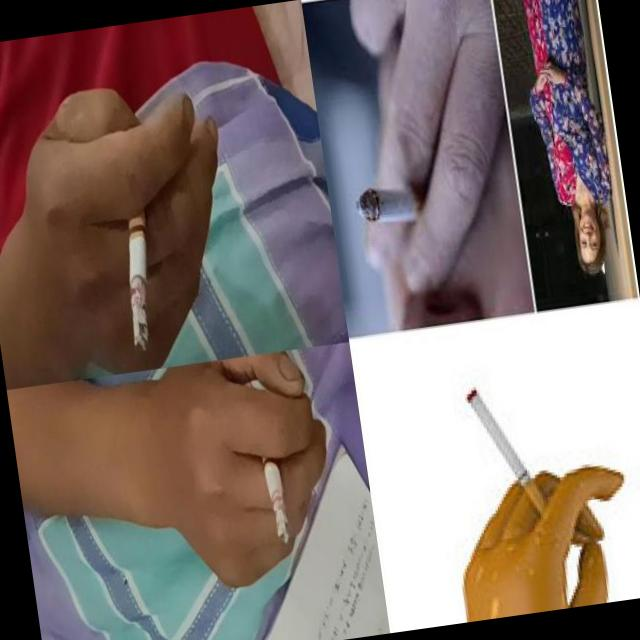smoke: (464, 379, 554, 529), (110, 178, 167, 356), (354, 180, 439, 228), (258, 435, 290, 545)
